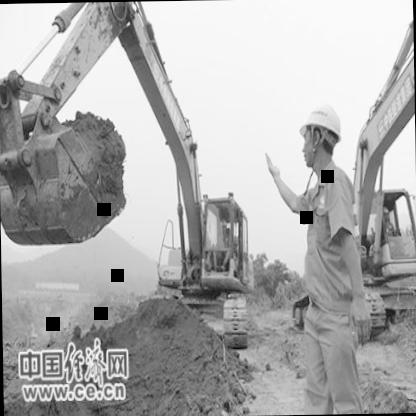helmet: (294, 90, 348, 178)
